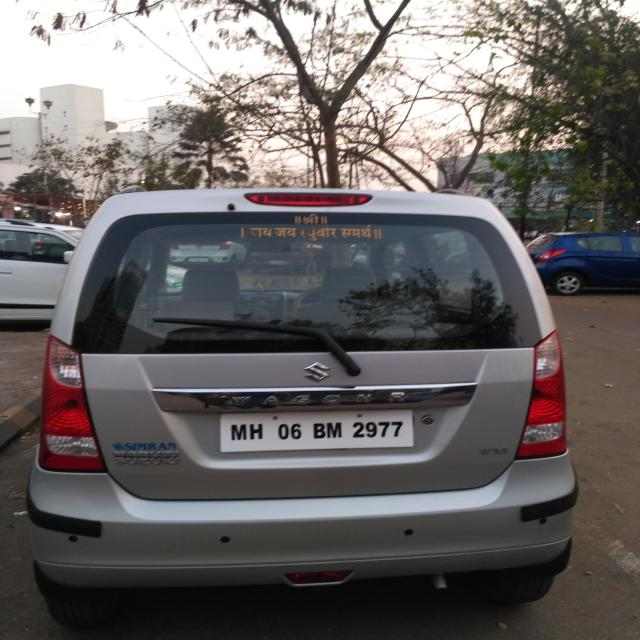Number-Plate: (220, 413, 417, 451)
